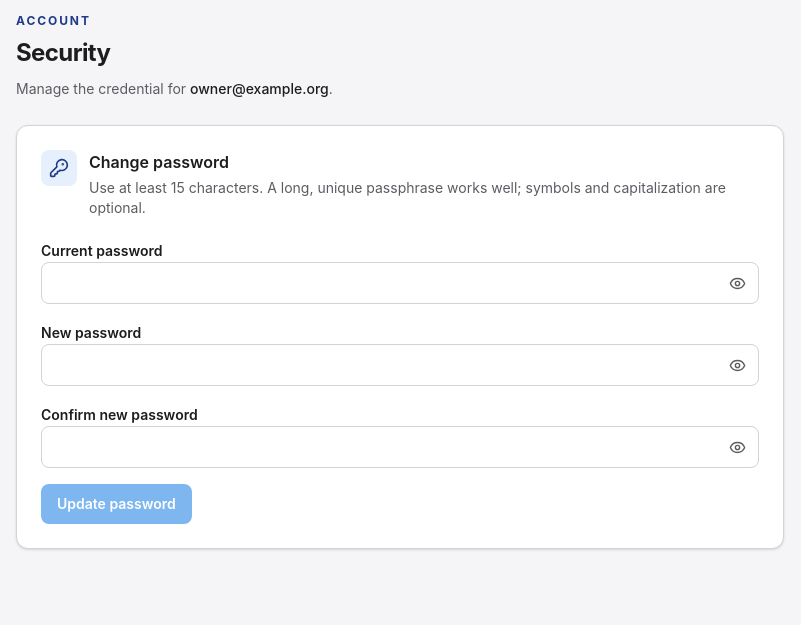
it: AccountSecurity › updates the credential and explains session revocation
The image size is (801, 625).
Type "old private password" into the password field labelled "Current password" at (400, 283), box x1=41 y1=262 x2=759 y2=304
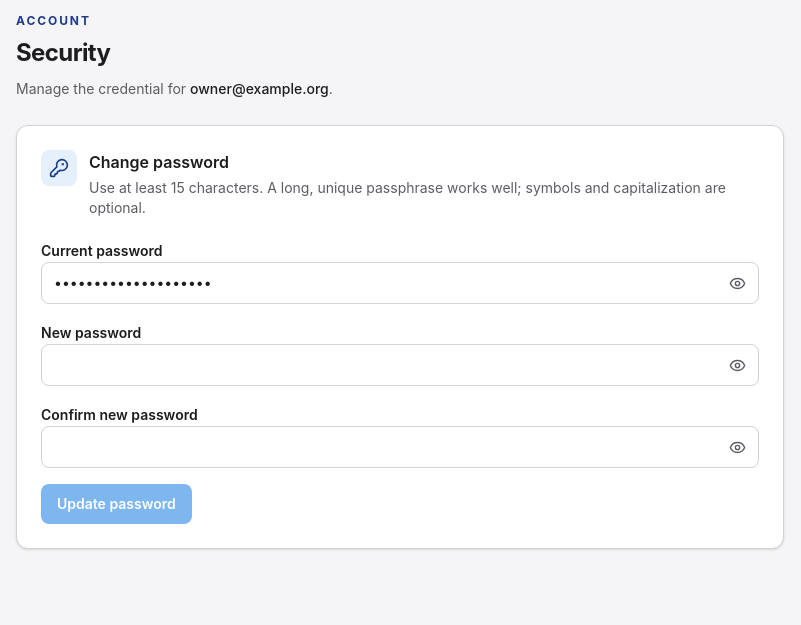
Type "violet harbor orbits calmly" into the password field labelled "New password" at (400, 365), box x1=41 y1=344 x2=759 y2=386
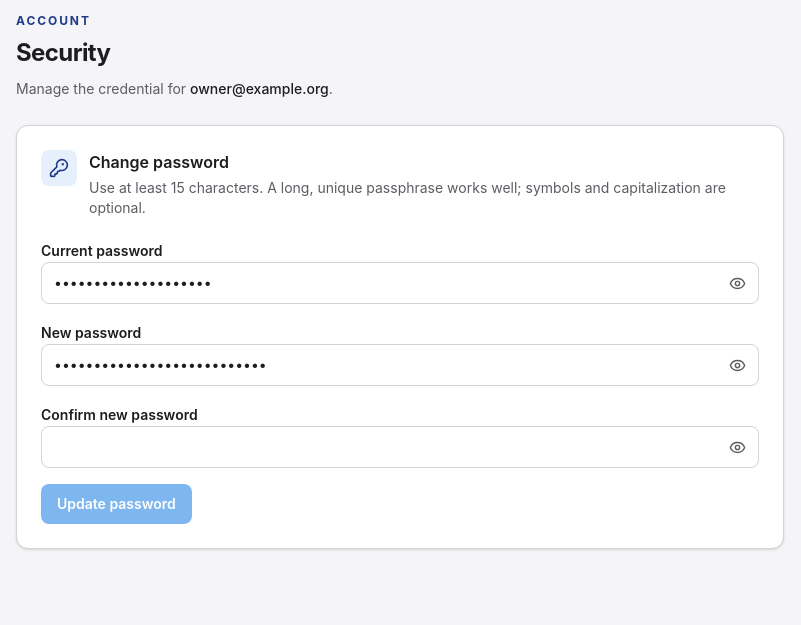
Type "violet harbor orbits calmly" into the password field labelled "Confirm new password" at (400, 447), box x1=41 y1=426 x2=759 y2=468
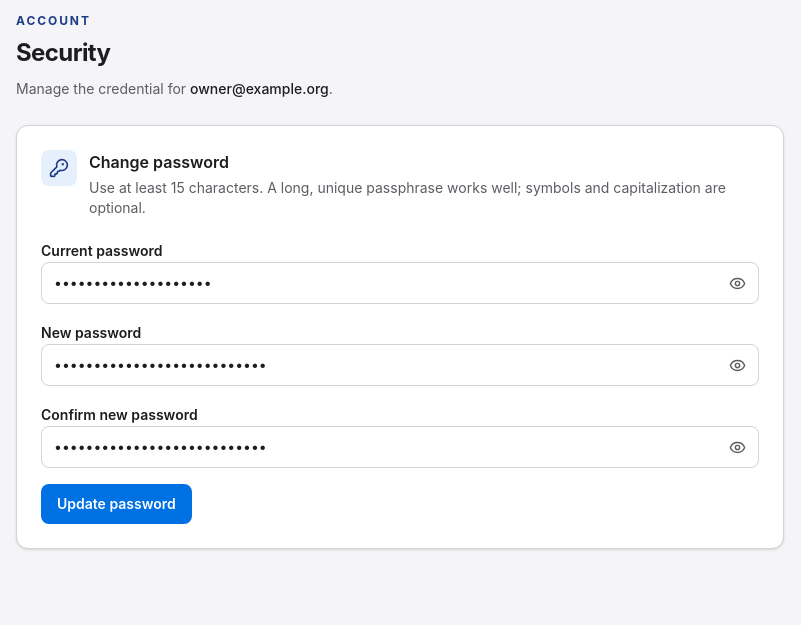
Click the button "Update password" at (116, 504), box x1=41 y1=484 x2=192 y2=524
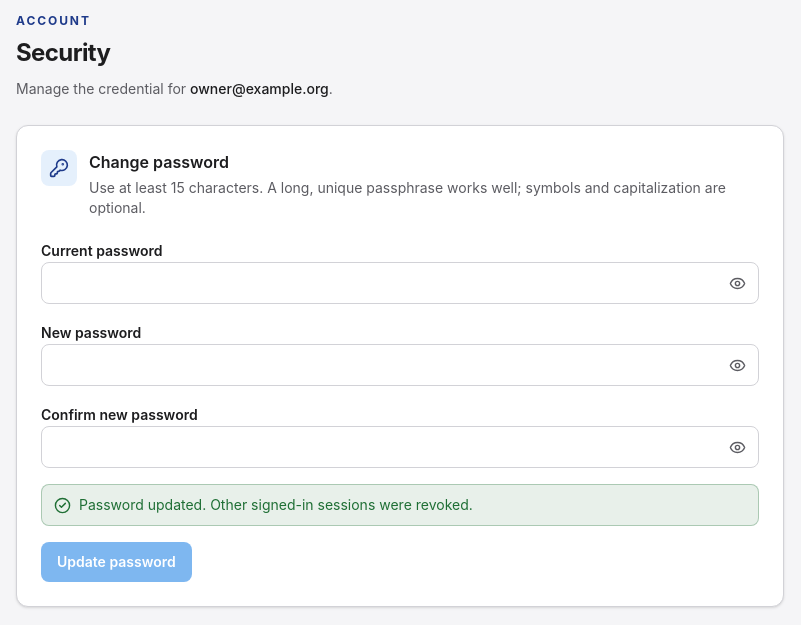
Expected: the text "Password updated. Other signed-in sessions were revoked." is shown, x1=41 y1=484 x2=759 y2=526
